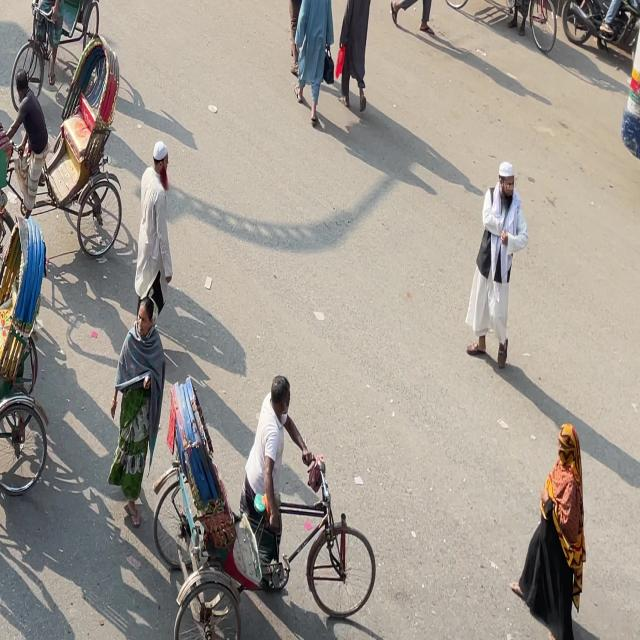car: (136, 354, 402, 632), (0, 32, 139, 262)
